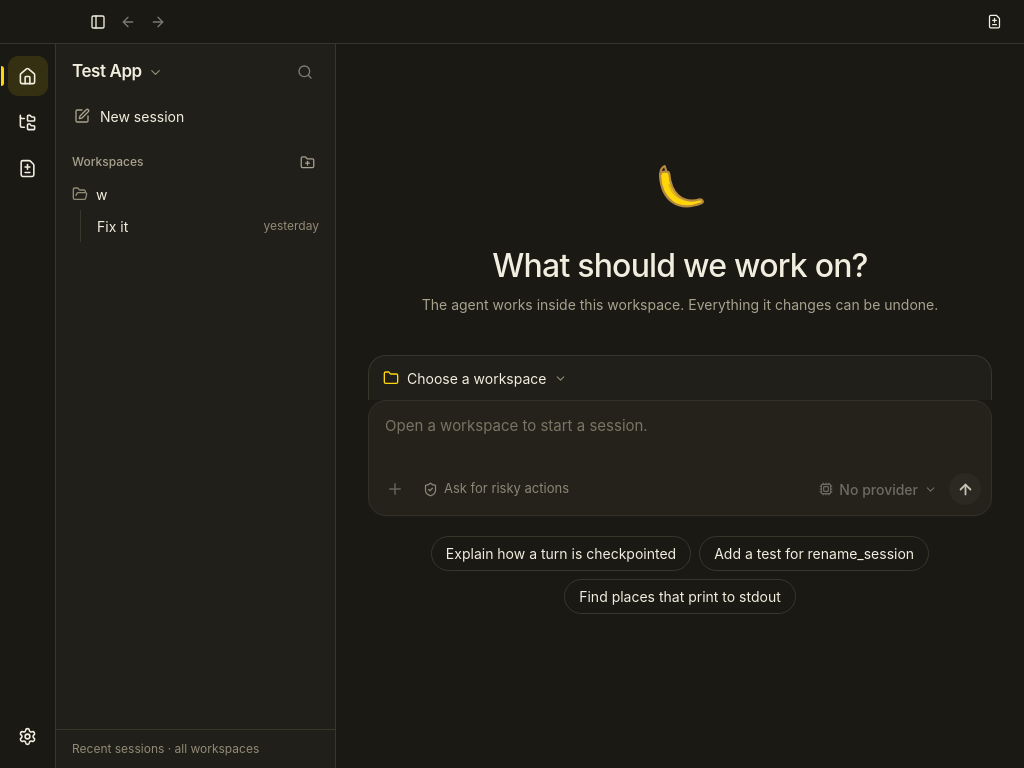
the trust dialog › a folder with an untrusted config opens the dialog with restricted mode focused
Check: the text "Fix it" is shown, box [97,218,128,234]
What coordinates should you click on to do the following:
click the button named "Open folder"
I would click on:
 (307, 162)
Its box is [295,150,319,174].
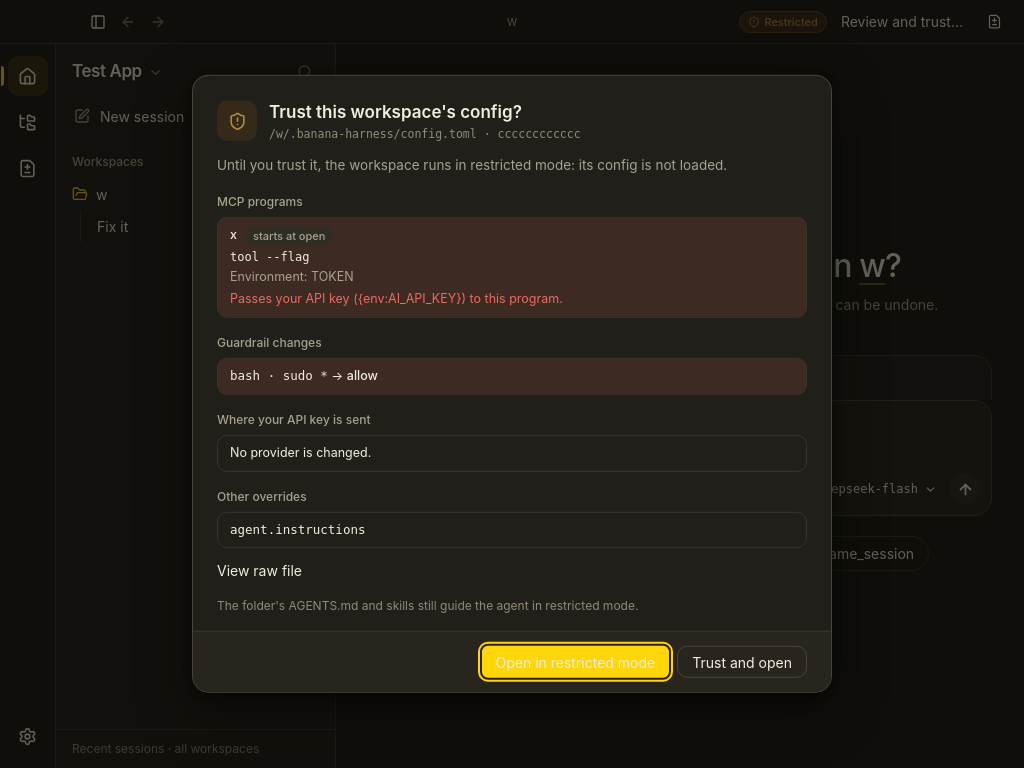
Check: the text "tool --flag" is shown, box [230,250,310,264]
Check: the text "Environment: TOKEN" is shown, box [230,268,354,284]
Check: the text "Passes your API key ({env:AI_API_KEY}) to this program." is shown, box [230,291,563,306]
